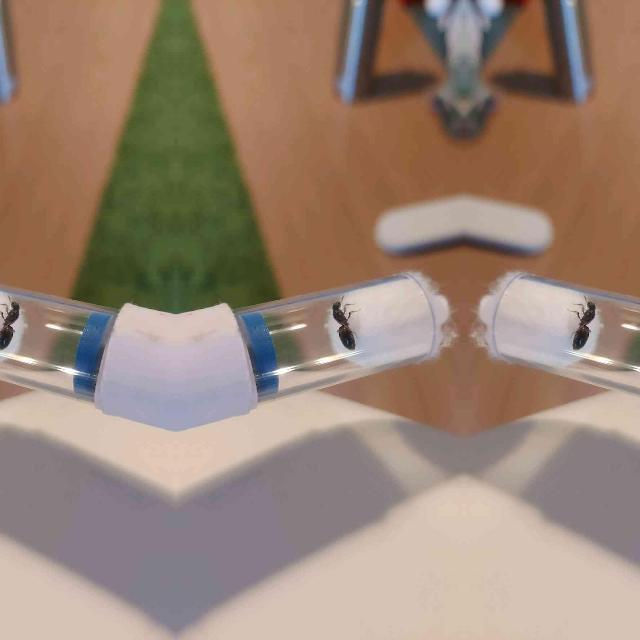Lasius: (326, 296, 364, 356), (562, 296, 600, 356), (0, 294, 24, 356)
